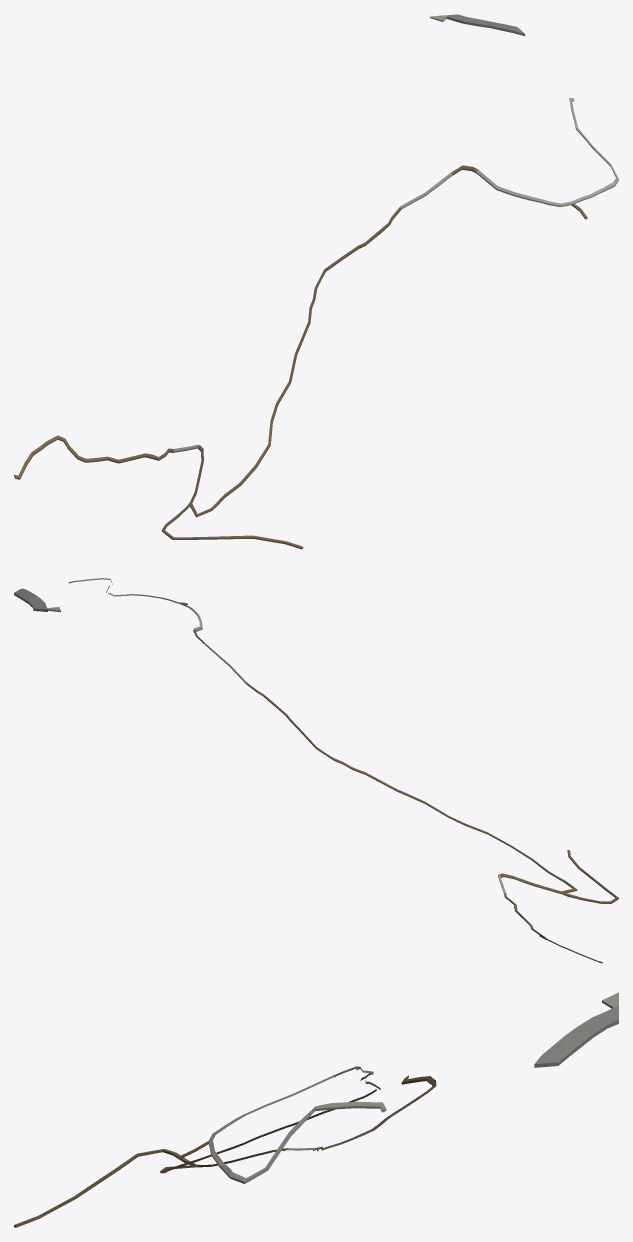
3 views of the same model, one above another, from view 1: azimuth 30°, elevation 25°; view 2: azimuth 150°, elevation 25°; view 3: azimuth 270°, elevation 25° (orthographic). The views are drawn at different scales.
Bounding box in the file's own units: 293 × 158 × 180.
